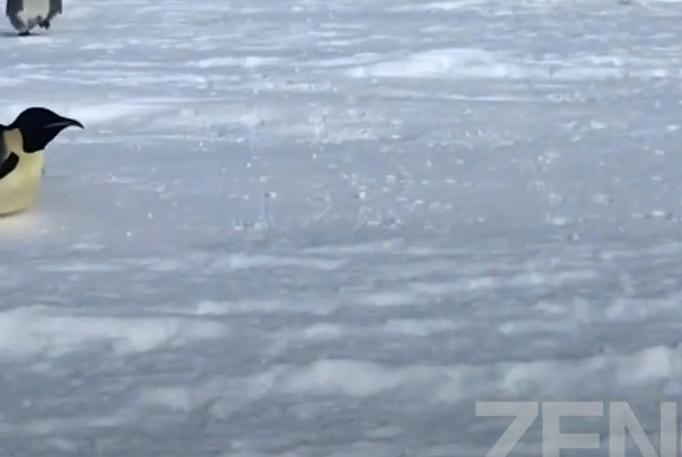Emperor Penguin: (0, 95, 113, 245)
